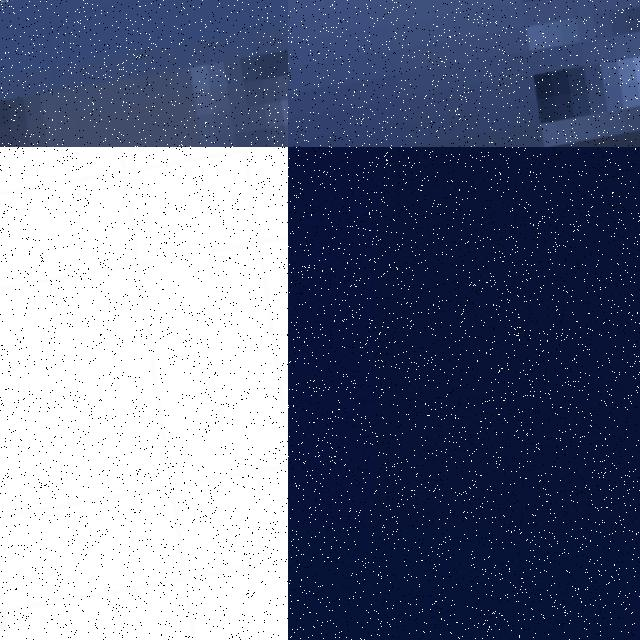drone: (0, 147, 288, 640), (288, 0, 640, 147), (0, 0, 288, 147)
